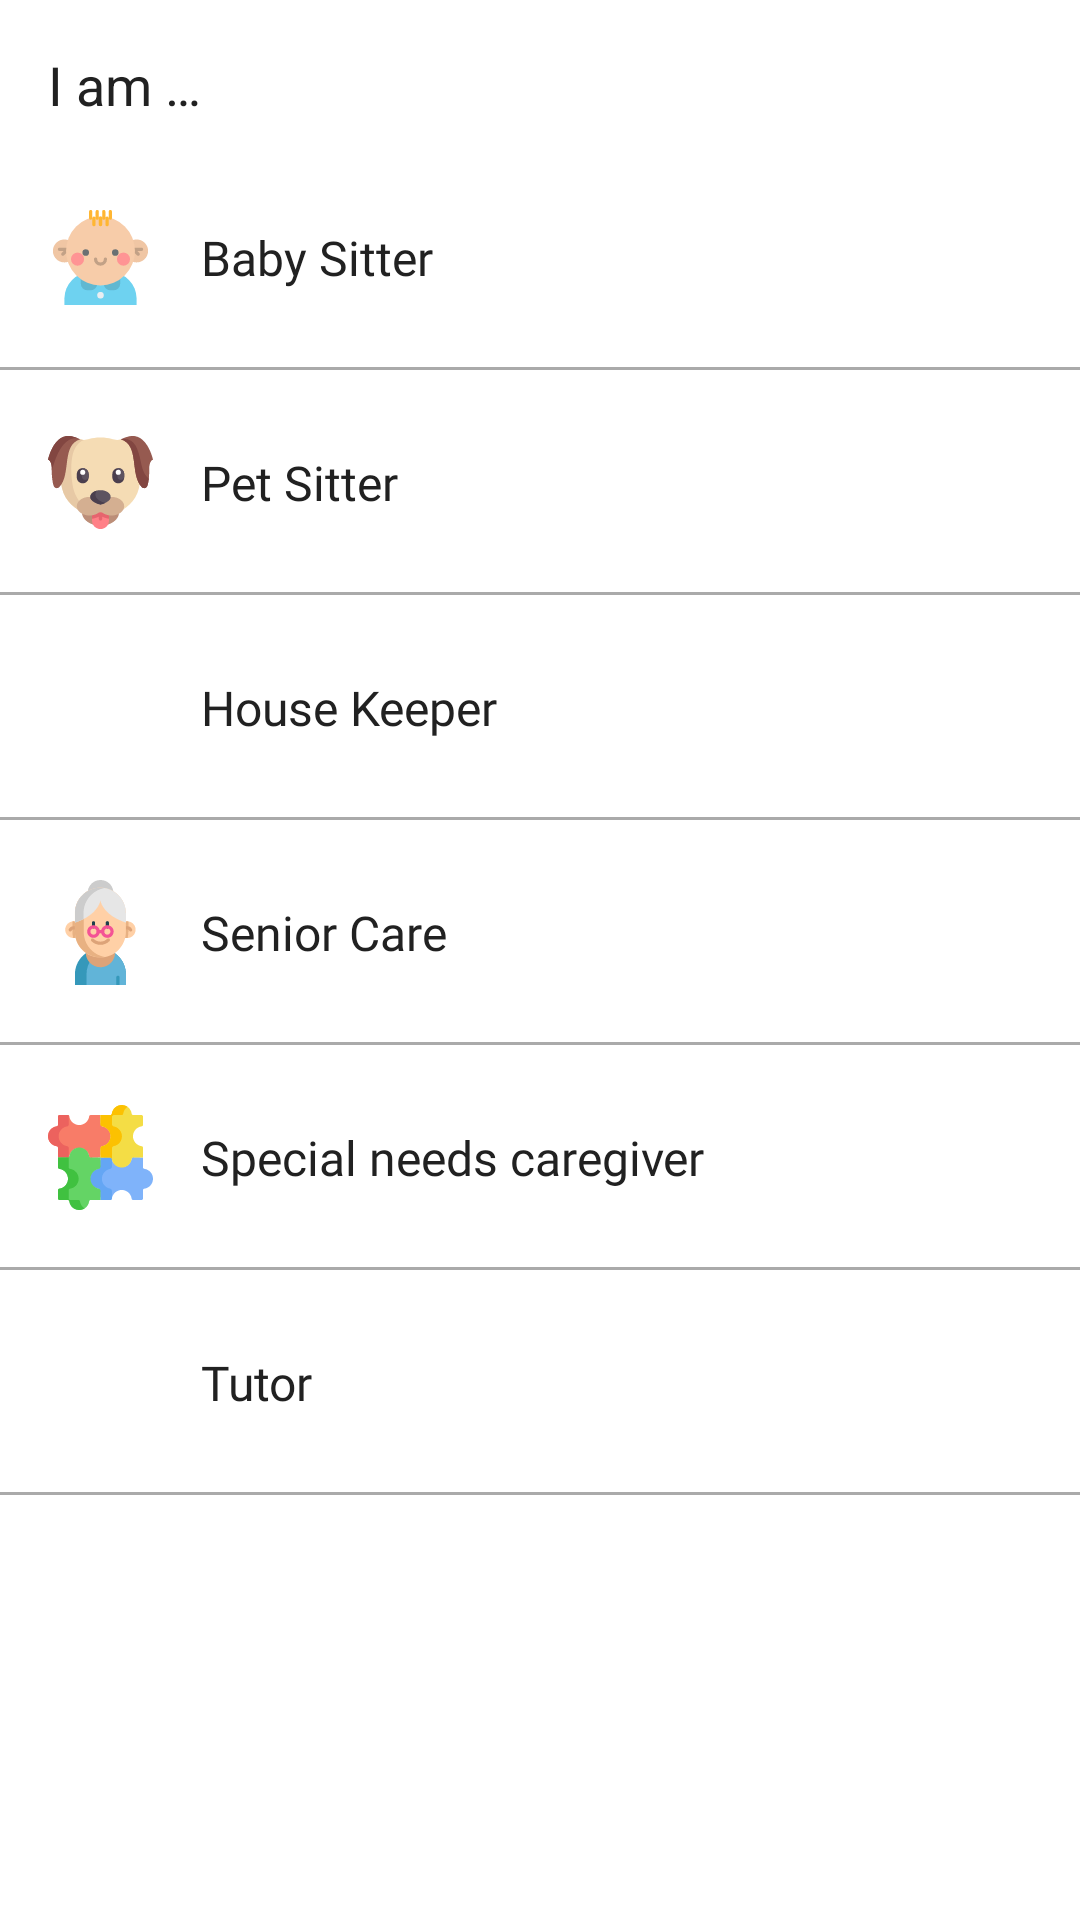

Where icons sit on this 1080 x 1920 app screen, as (x1, y1, x2, y2):
children: (53, 210, 148, 305)
dog: (48, 436, 153, 529)
puzzle: (48, 1105, 153, 1210)
woman: (65, 880, 136, 985)
